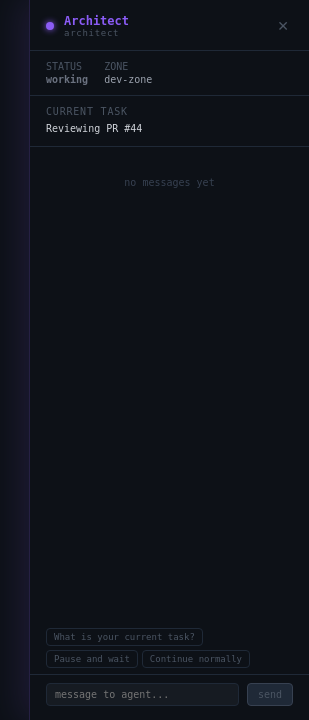
Test: AgentDetailPanel › clicking a quick message sends it and renders the message in history
Click the button "What is your current task?" at [124, 637], box [46,628,203,646]
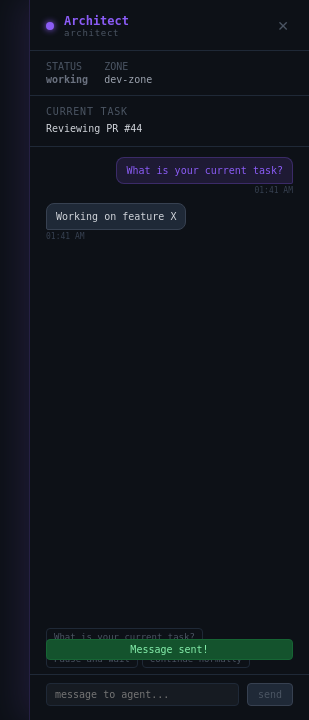
Result: the text "Working on feature X" is shown at [46,203,186,230]
